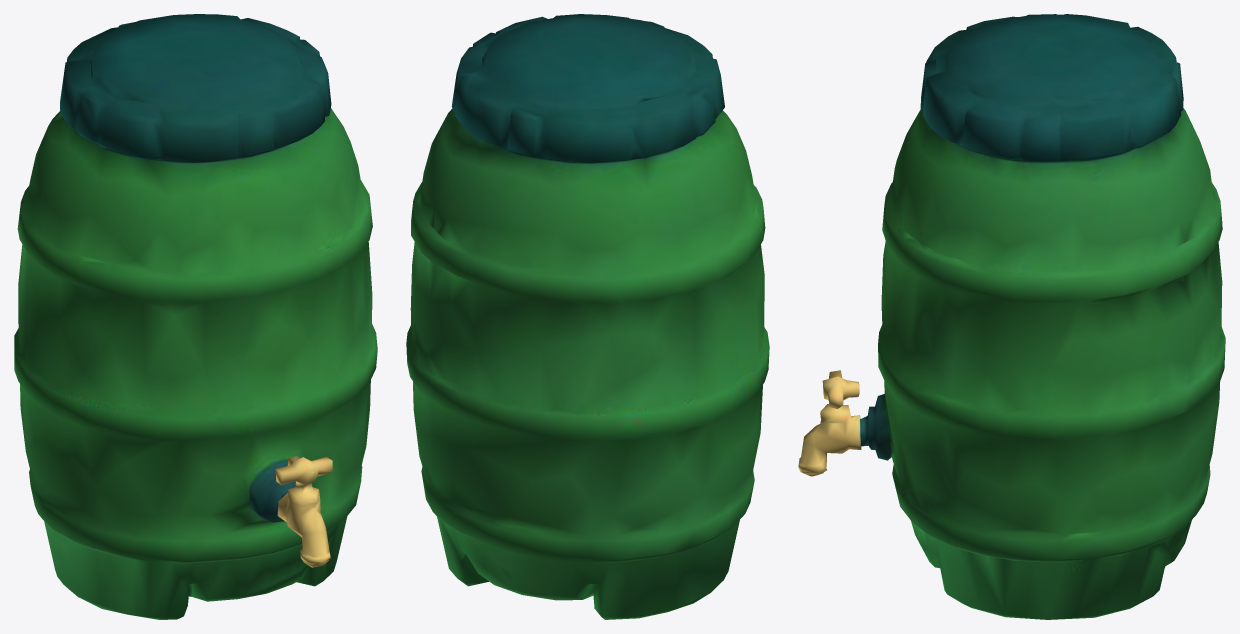
The model's file is rainbarrel.glb.
3 views of the same model, side by side, from view 1: azimuth 30°, elevation 25°; view 2: azimuth 150°, elevation 25°; view 3: azimuth 270°, elevation 25° (orthographic).
Visible parts, largest first — view 1: model; view 2: model; view 3: model.
Part boxes in pixels (x1,y1,x2,y2): model: (14, 14, 377, 619); model: (406, 14, 769, 619); model: (798, 14, 1225, 619).
Bounding box in the file's own units: 1.2 × 1.88 × 1.42.
Materials: 1 (1 with a texture image).
